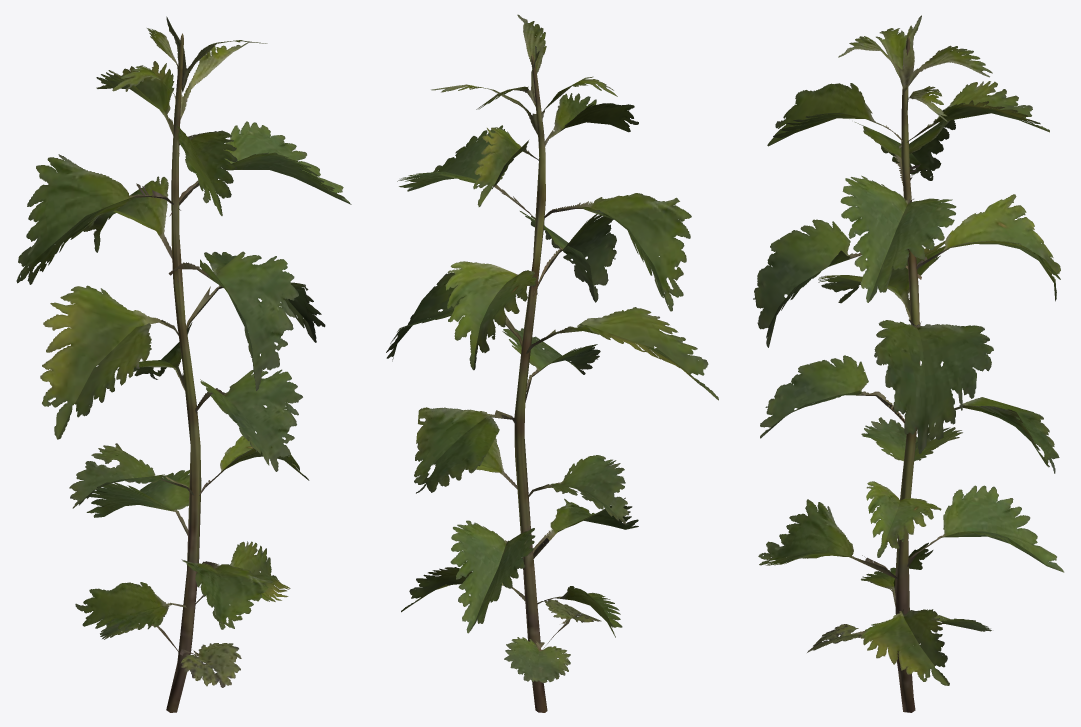
The picture shows the model from 3 angles, left to right: view 1: azimuth 30°, elevation 25°; view 2: azimuth 150°, elevation 25°; view 3: azimuth 270°, elevation 25°; orthographic projection. The views are drawn at different scales.
Parts seen in each view (by area): view 1: nettle_plant__c_lod0; view 2: nettle_plant__c_lod0; view 3: nettle_plant__c_lod0.
Boxes of the visible parts, x1,y1,x2,y2 form: nettle_plant__c_lod0: (16,16,351,712); nettle_plant__c_lod0: (386,14,718,712); nettle_plant__c_lod0: (753,15,1064,712).
Size of the model in its own units: 0.106 by 0.2237 by 0.0922.
1 material, 1 textured.
